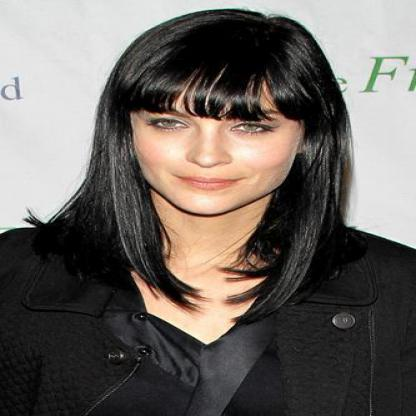long-hair: (63, 216, 362, 252)
